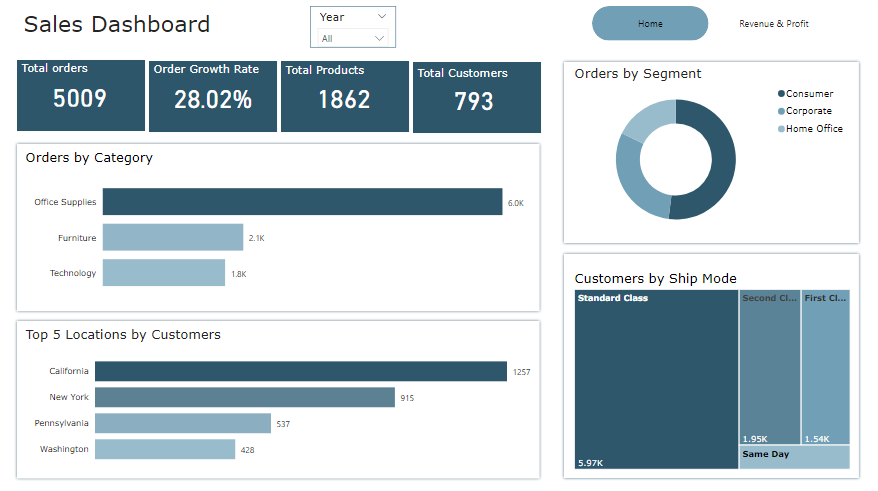

Layout of this report page (visuals, bound fields, positions):
{"tool":"powerbi","page":{"name":"Home","canvas":[1280,720],"ordinal":4},"visuals":[{"type":"shape","box":[811.3,90.7,433.4,268.8],"z":0},{"type":"shape","box":[811.3,367.9,433.4,330.9],"z":1000},{"type":"shape","box":[23.5,463.6,760.9,235.2],"z":2000},{"type":"shape","box":[23.5,208.3,760.9,248.6],"z":3000},{"type":"shape","box":[213.4,89.3,193.2,110.9],"z":4000},{"type":"shape","box":[593.5,91,193.2,110.9],"z":5000},{"type":"shape","box":[23.5,87.9,193.2,110.9],"z":6000},{"type":"card","fields":{"Values":["My Measures.Total Orders"]},"box":[69.1,122.4,95,41.8],"z":7000},{"type":"card","fields":{"Values":["My Measures.Sales Growth Rate"]},"box":[241.9,121,135.4,49],"z":8000},{"type":"card","fields":{"Values":["My Measures.Total Customers"]},"box":[639.4,125.3,90.7,44.6],"z":9000},{"type":"textbox","box":[28.8,87.8,123.8,36],"z":10000},{"type":"textbox","box":[218.9,89.3,171.4,36],"z":11000},{"type":"shape","box":[403,89.5,193.2,110.9],"z":12000},{"type":"textbox","box":[409,90.7,148.3,36],"z":13000},{"type":"textbox","box":[599,95,159.8,34.6],"z":14000},{"type":"card","fields":{"Values":["My Measures.Number of Products"]},"box":[446.7,121.5,102.5,48.7],"z":15000},{"type":"treemap","title":"Customers by Ship Mode","fields":{"Group":["Superstore.Ship Mode"],"Values":["CountNonNull(Superstore.Customer ID)"]},"box":[824.8,394.8,406.5,292.3],"z":16000},{"type":"clusteredBarChart","title":"Top 5 Locations by  Customers","fields":{"Category":["Superstore.State Hierarchy.State","Superstore.State Hierarchy.City","Superstore.State Hierarchy.Region"],"Y":["CountNonNull(Superstore.Customer ID)"]},"box":[34.6,475.2,738.7,213.1],"z":17000},{"type":"clusteredBarChart","title":"Orders by Category","fields":{"Category":["Superstore.Category Hierarchy.Category","Superstore.Category Hierarchy.Sub-Category"],"Y":["CountNonNull(Superstore.Order ID)"]},"box":[35.3,220.1,737.4,225.1],"z":18000},{"type":"donutChart","title":"Orders by Segment","fields":{"Category":["Superstore.Segment"],"Y":["CountNonNull(Superstore.Order ID)"]},"box":[824.8,99.1,406.5,248.6],"z":19000},{"type":"pageNavigator","box":[855,15.1,346,50.4],"z":20000},{"type":"textbox","box":[31.9,15.1,299,50.4],"z":21000},{"type":"slicer","fields":{"Values":["Superstore.Order Date.Variation.Date Hierarchy.Year"]},"box":[449.3,14.4,123.8,60.5],"z":22000}]}

Visuals, with their boxes in screenshot pixels (x1, y1, x2, y2), scaled from the page's 1280x720 canvas onto the 878x491 screenshot:
shape: (557,62,854,245)
shape: (557,251,854,477)
shape: (16,316,538,477)
shape: (16,142,538,312)
shape: (146,61,279,137)
shape: (407,62,540,138)
shape: (16,60,149,136)
card - My Measures.Total Orders: (47,83,113,112)
card - My Measures.Sales Growth Rate: (166,83,259,116)
card - My Measures.Total Customers: (439,85,501,116)
textbox: (20,60,105,84)
textbox: (150,61,268,85)
shape: (276,61,409,137)
textbox: (281,62,382,86)
textbox: (411,65,520,88)
card - My Measures.Number of Products: (306,83,377,116)
"Customers by Ship Mode" treemap: (566,269,845,469)
"Top 5 Locations by  Customers" clusteredBarChart: (24,324,530,469)
"Orders by Category" clusteredBarChart: (24,150,530,304)
"Orders by Segment" donutChart: (566,68,845,237)
pageNavigator: (586,10,824,45)
textbox: (22,10,227,45)
slicer - Superstore.Order Date.Variation.Date Hierarchy.Year: (308,10,393,51)
